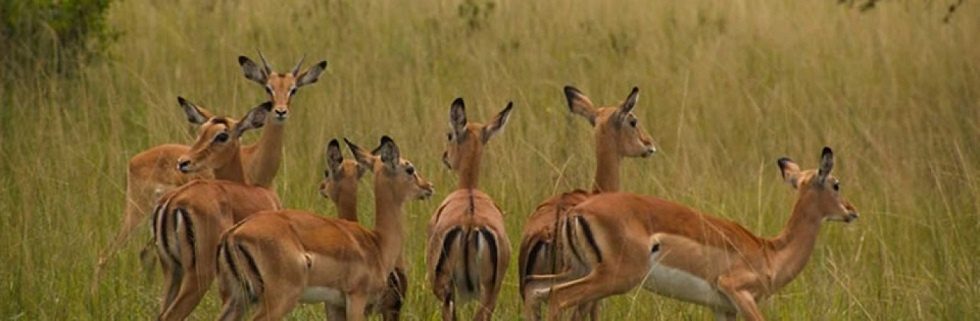impala: (83, 45, 333, 309), (536, 143, 864, 321), (214, 131, 437, 321), (514, 75, 657, 321), (142, 102, 289, 321), (422, 91, 517, 321)
